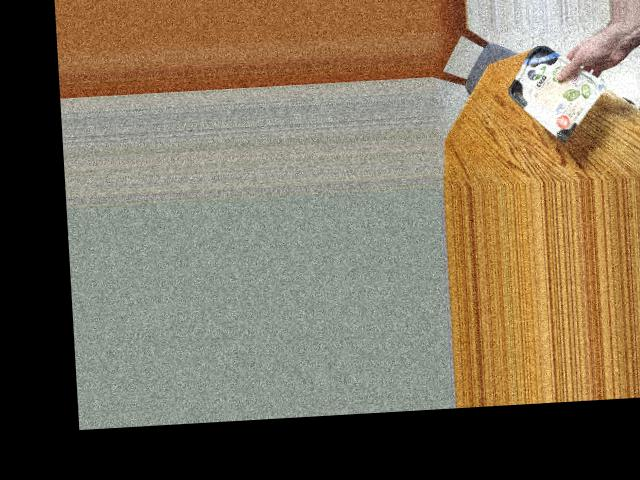cheese: (505, 50, 591, 133)
